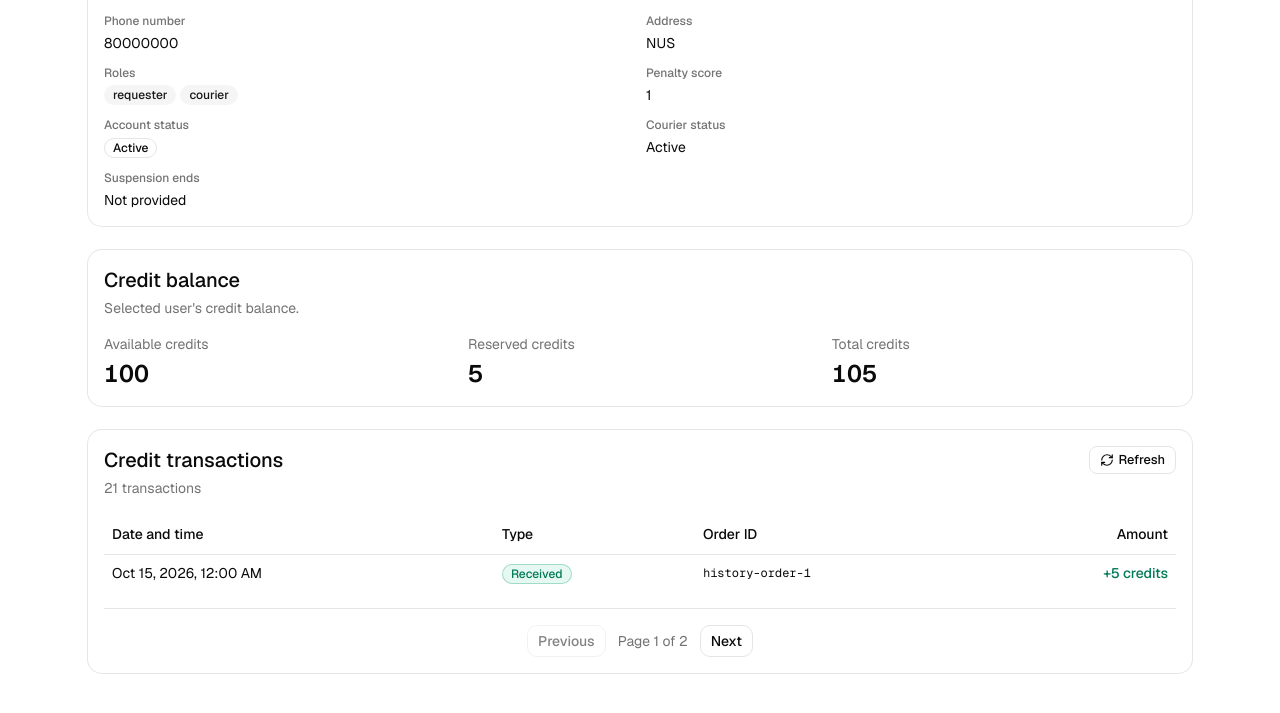
it: Admin pages › paginates real selected-user history with independently loaded balance
(page scrolled)
Expected: the text "history-order-1" is shown, [695,554,986,592]
Expected: the text "100" is shown, [104,358,149,389]
Click the button "Next" at (726, 640), box [700,624,753,656]
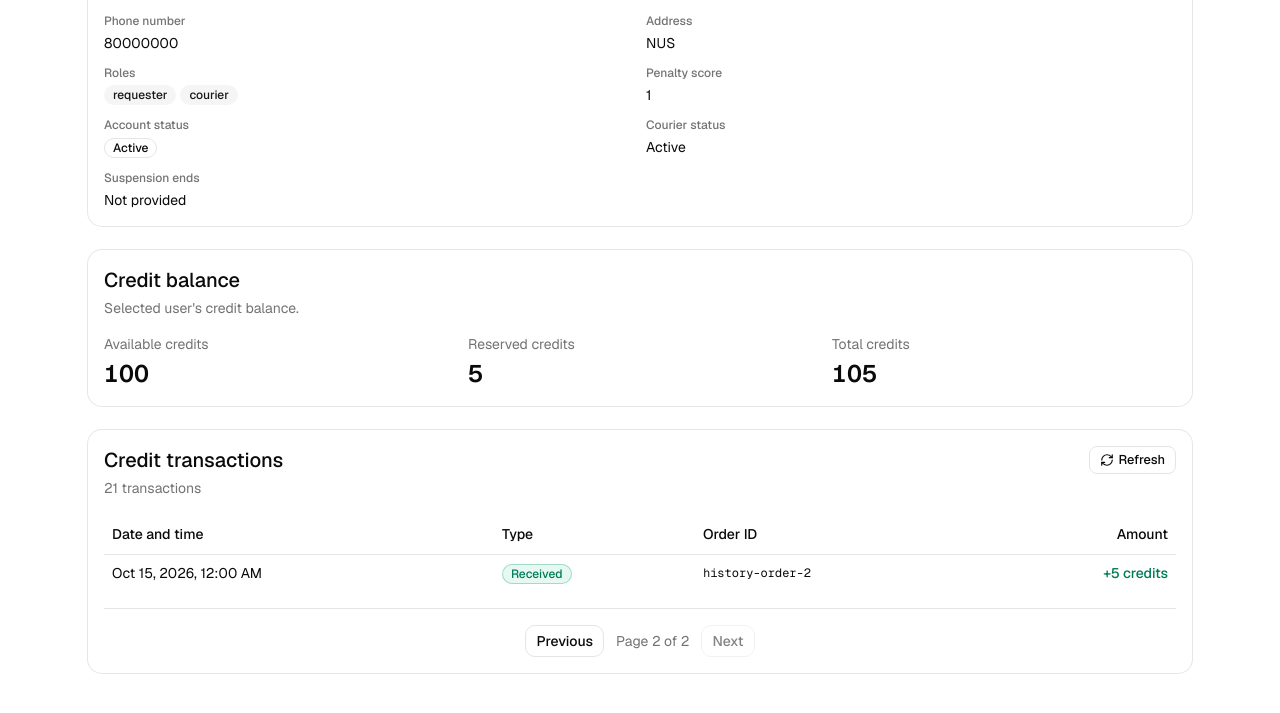
Expected: the text "history-order-2" is shown, [695,554,986,592]
